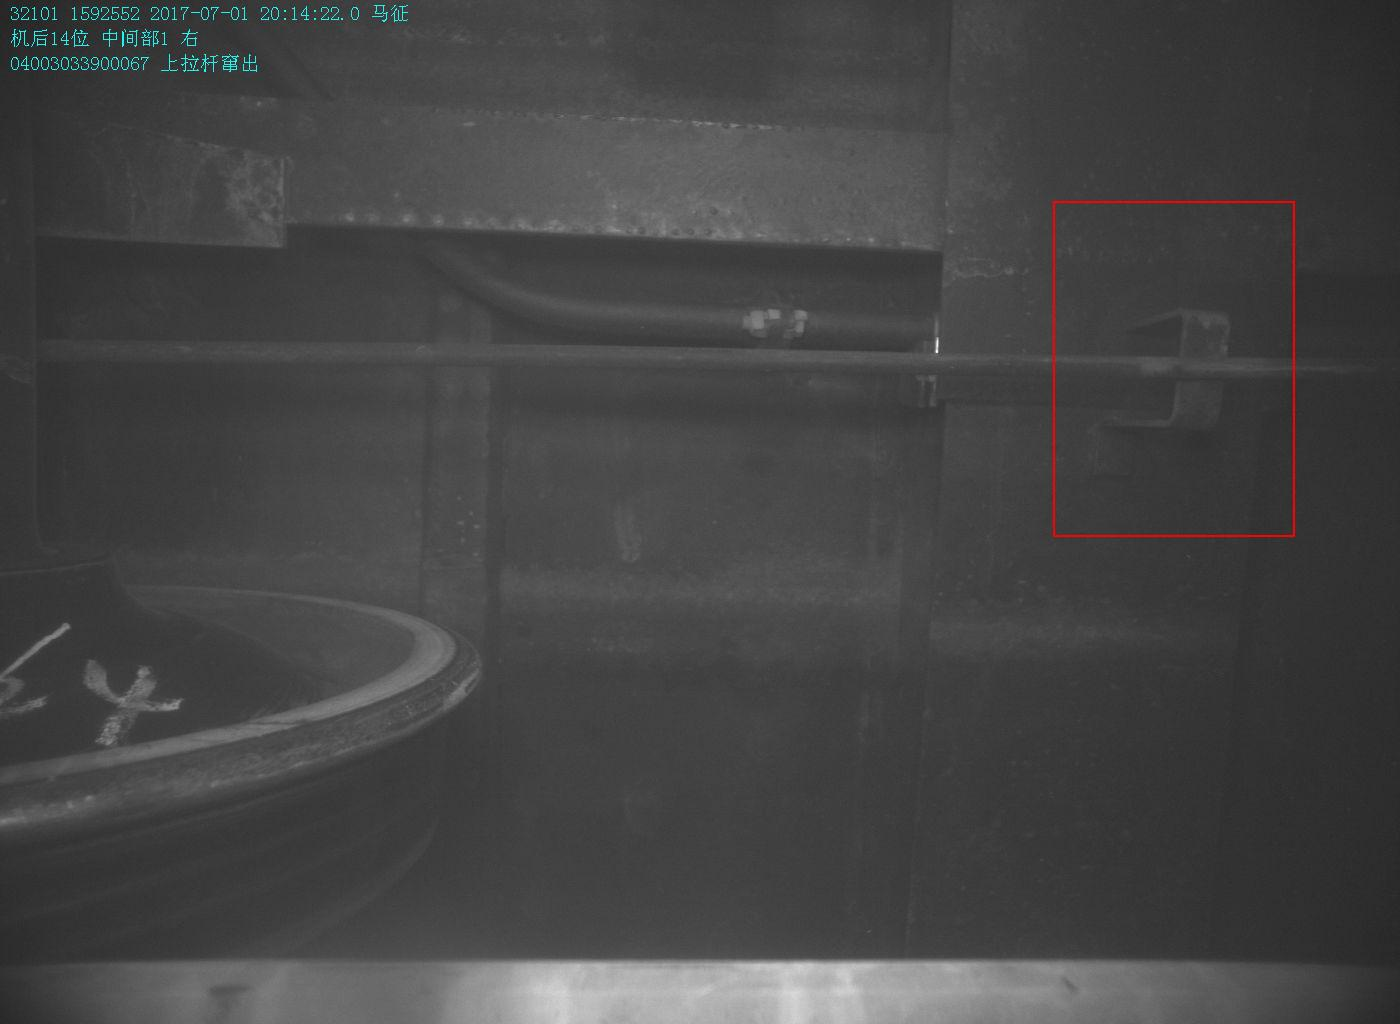upper lever: (1107, 303, 1232, 432)
